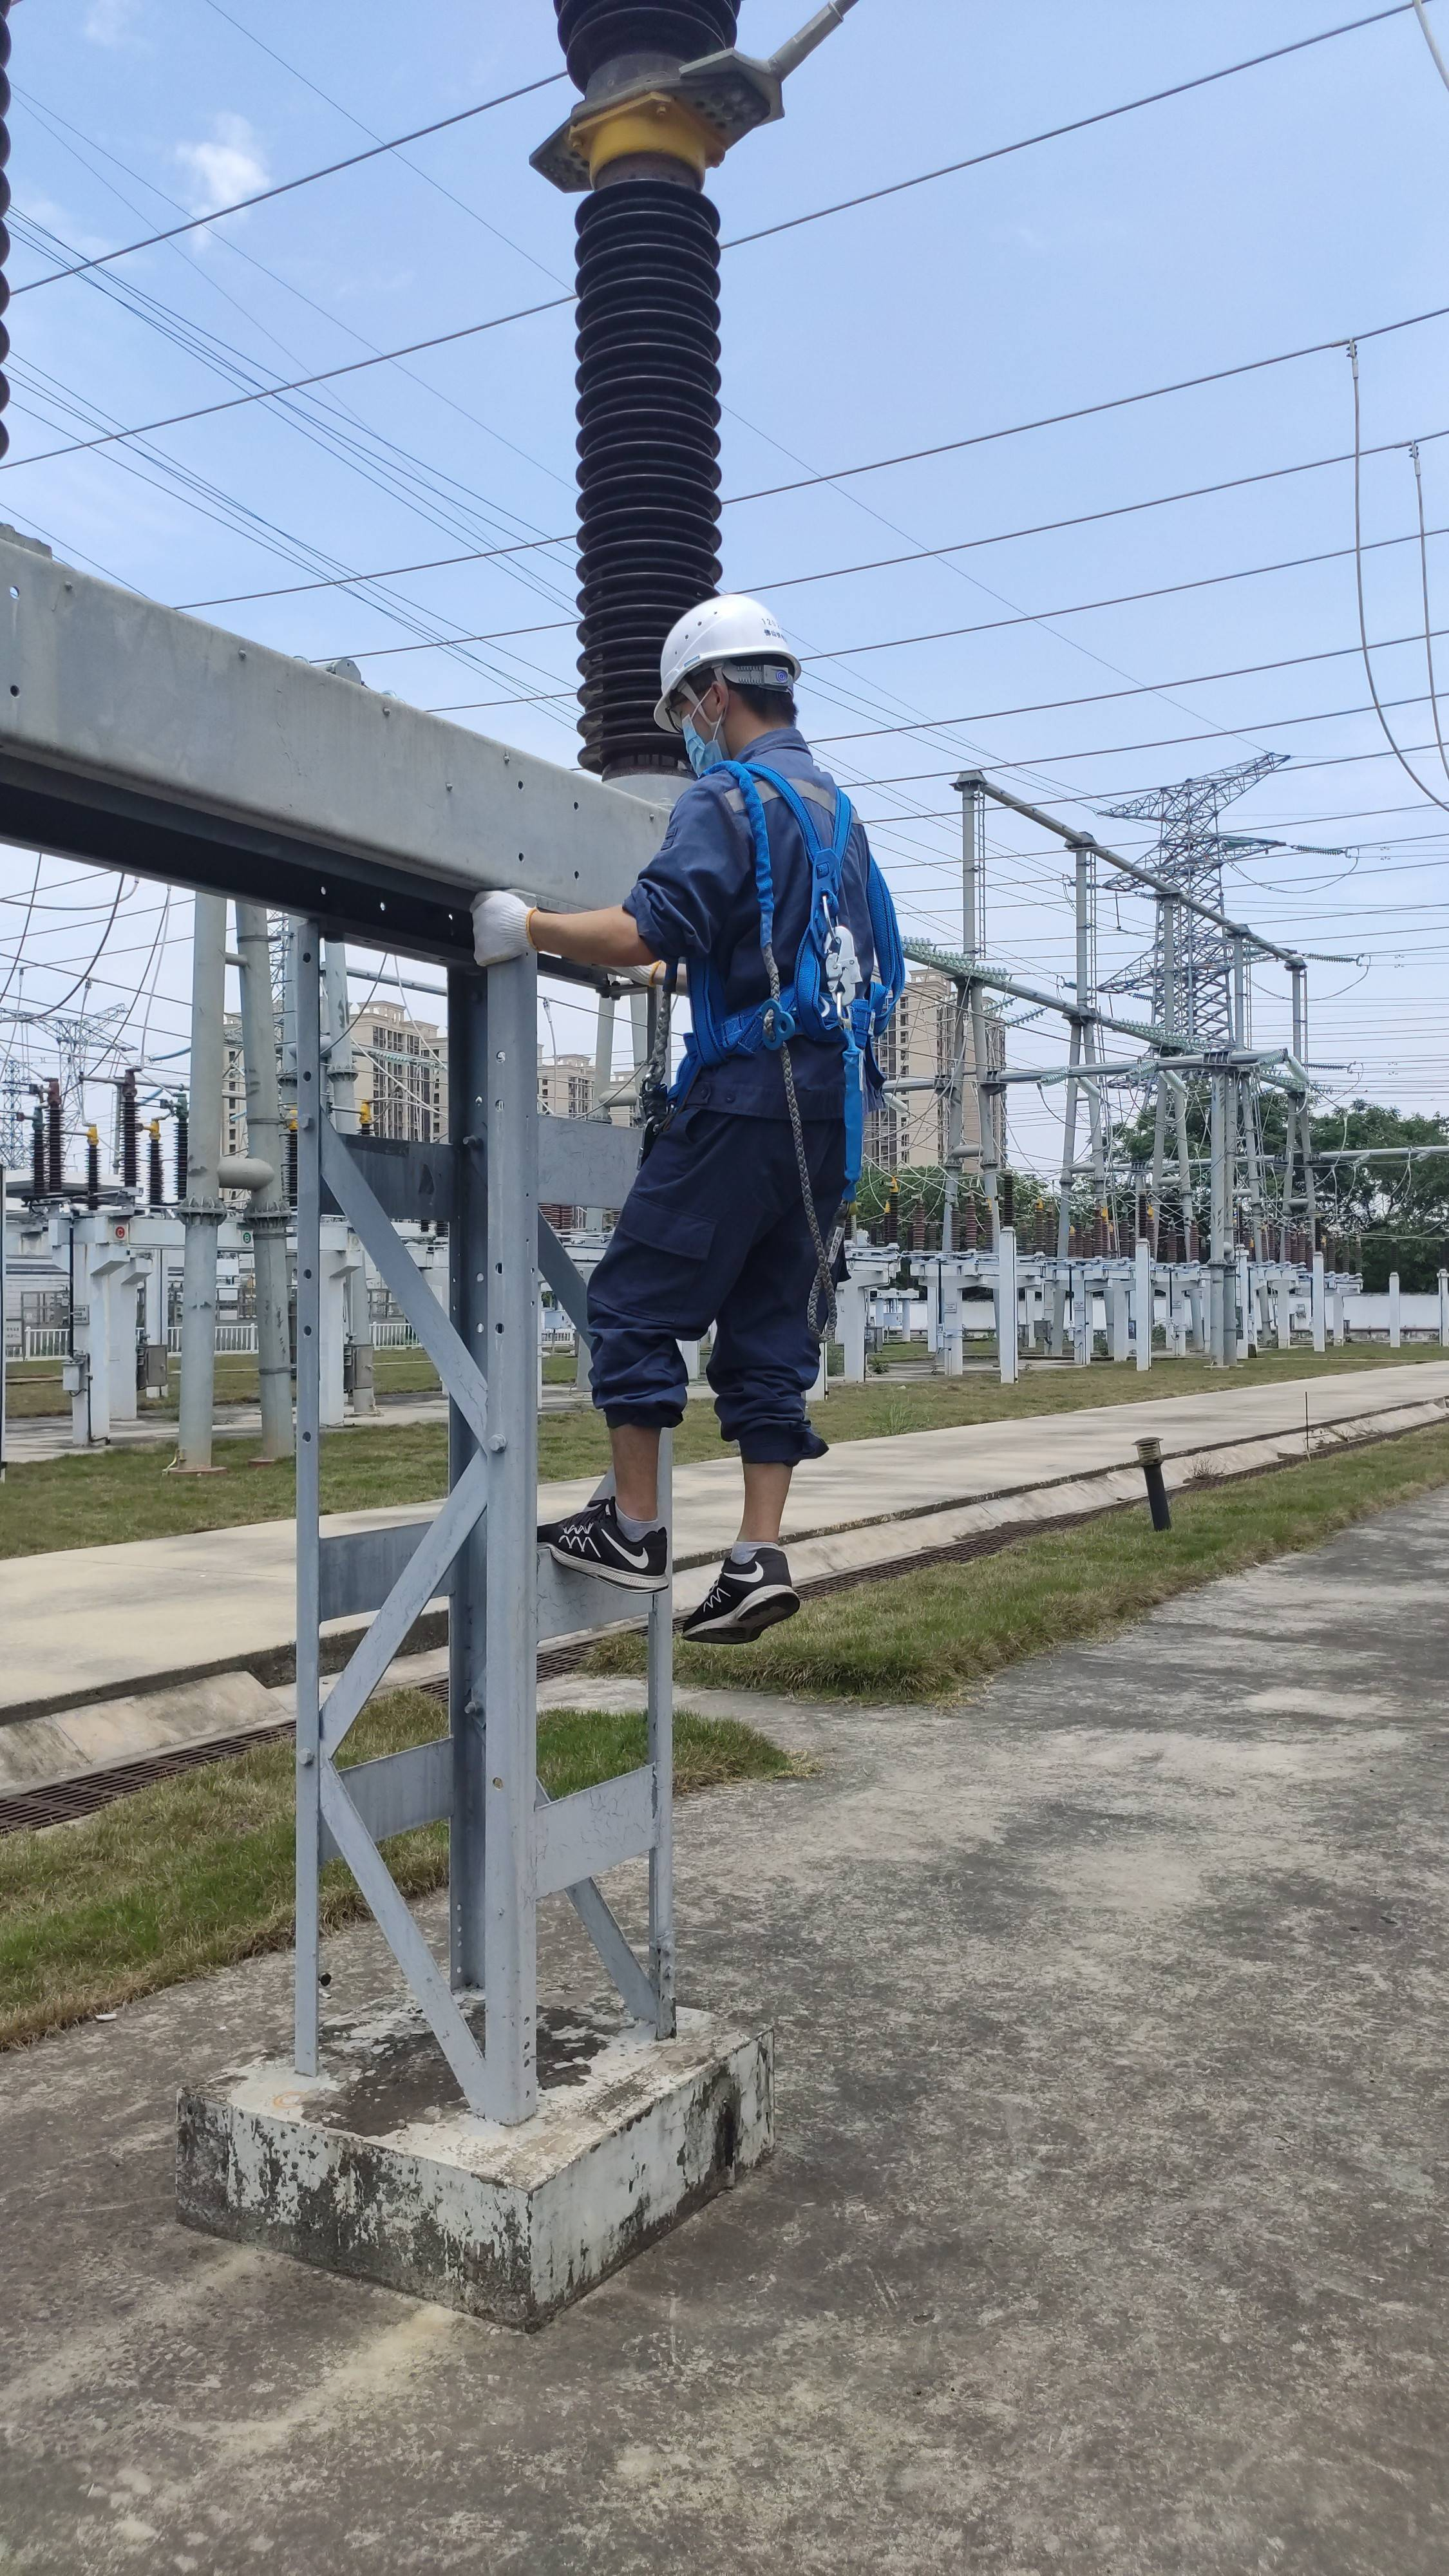downsuit: (589, 1123, 855, 1438)
upsuit: (623, 725, 897, 1132)
wrongbottom: (584, 1394, 817, 1580)
wrongtop: (464, 872, 686, 987)
